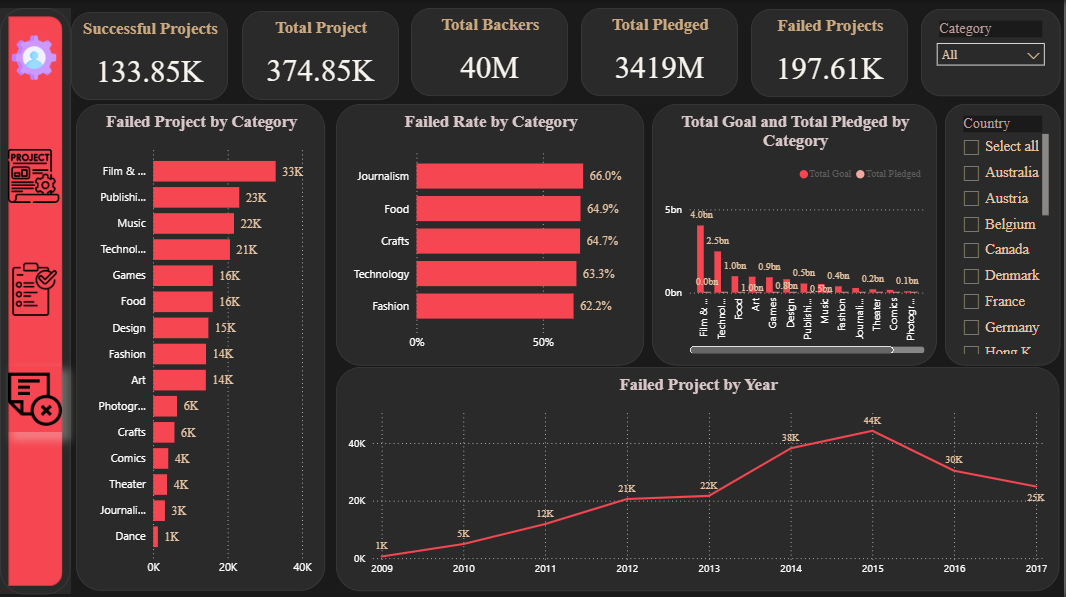

The page's visual inventory and layout, read from the dashboard file:
{"tool":"powerbi","page":{"name":"Failed Project","canvas":[1280,720],"ordinal":3},"visuals":[{"type":"group","id":"g1","title":"Group 1","box":[0,9.6,85.3,706.1],"z":0},{"type":"shape","box":[0,9.6,85.3,706.1],"z":0,"group":"g1"},{"type":"card","title":"Total Project","fields":{"Values":["Measure.Total Project"]},"box":[291.8,12.9,188.6,107.4],"z":1},{"type":"card","title":"Successful Projects","fields":{"Values":["Measure.Successful Projects"]},"box":[85.8,14.3,189,106.4],"z":2},{"type":"card","title":"Total Backers","fields":{"Values":["Measure.Total Backers"]},"box":[494.7,9.6,189,106.4],"z":3},{"type":"card","title":"Total Pledged","fields":{"Values":["Measure.Total Pledged"]},"box":[699.6,9.6,189,106.4],"z":4},{"type":"card","title":"Failed Projects","fields":{"Values":["Measure.Failed Project"]},"box":[904.4,10.5,189,106.4],"z":5},{"type":"slicer","fields":{"Values":["kickstarter_projects.Category"]},"box":[1109.3,11,167.9,104.6],"z":6},{"type":"slicer","fields":{"Values":["kickstarter_projects.Country"]},"box":[1137.4,125,139.1,315.2],"z":7},{"type":"barChart","fields":{"Category":["kickstarter_projects.Category"],"Y":["Measure.Failed Project"]},"box":[91.5,125.2,300.3,586.4],"z":8},{"type":"barChart","fields":{"Category":["kickstarter_projects.Category"],"Y":["Measure.Failed Rate"]},"box":[405,125,371.5,315.2],"z":9},{"type":"clusteredColumnChart","fields":{"Category":["kickstarter_projects.Category"],"Y":["Measure.Total Goal","Measure.Total Pledged"]},"box":[785.3,125,343.3,315.2],"z":10},{"type":"lineChart","fields":{"Category":["kickstarter_projects.Launched.Variation.Date Hierarchy.Year"],"Y":["Measure.Failed Project"]},"box":[404.7,441.3,871,270.3],"z":11},{"type":"image","box":[9.6,440.4,64.7,79.8],"z":1000,"group":"g1"},{"type":"image","box":[10,308.4,64.4,80.1],"z":2000,"group":"g1"},{"type":"image","box":[8.6,167.8,64.4,88.7],"z":3000,"group":"g1"},{"type":"image","box":[10,22.8,62.9,93],"z":4000,"group":"g1"}]}

Visuals, with their boxes in screenshot pixels (x1, y1, x2, y2), scaled from the page's 1280x720 canvas onto the 1066x597 screenshot:
"Group 1" group: 0,8,71,593
shape: 0,8,71,593
"Total Project" card: 243,11,400,100
"Successful Projects" card: 71,12,229,100
"Total Backers" card: 412,8,569,96
"Total Pledged" card: 583,8,740,96
"Failed Projects" card: 753,9,911,97
slicer - kickstarter_projects.Category: 924,9,1064,96
slicer - kickstarter_projects.Country: 947,104,1063,365
barChart - kickstarter_projects.Category x Measure.Failed Project: 76,104,326,590
barChart - kickstarter_projects.Category x Measure.Failed Rate: 337,104,647,365
clusteredColumnChart - kickstarter_projects.Category x Measure.Total Goal: 654,104,940,365
lineChart - kickstarter_projects.Launched.Variation.Date Hierarchy.Year x Measure.Failed Project: 337,366,1062,590
image: 8,365,62,431
image: 8,256,62,322
image: 7,139,61,213
image: 8,19,61,96
